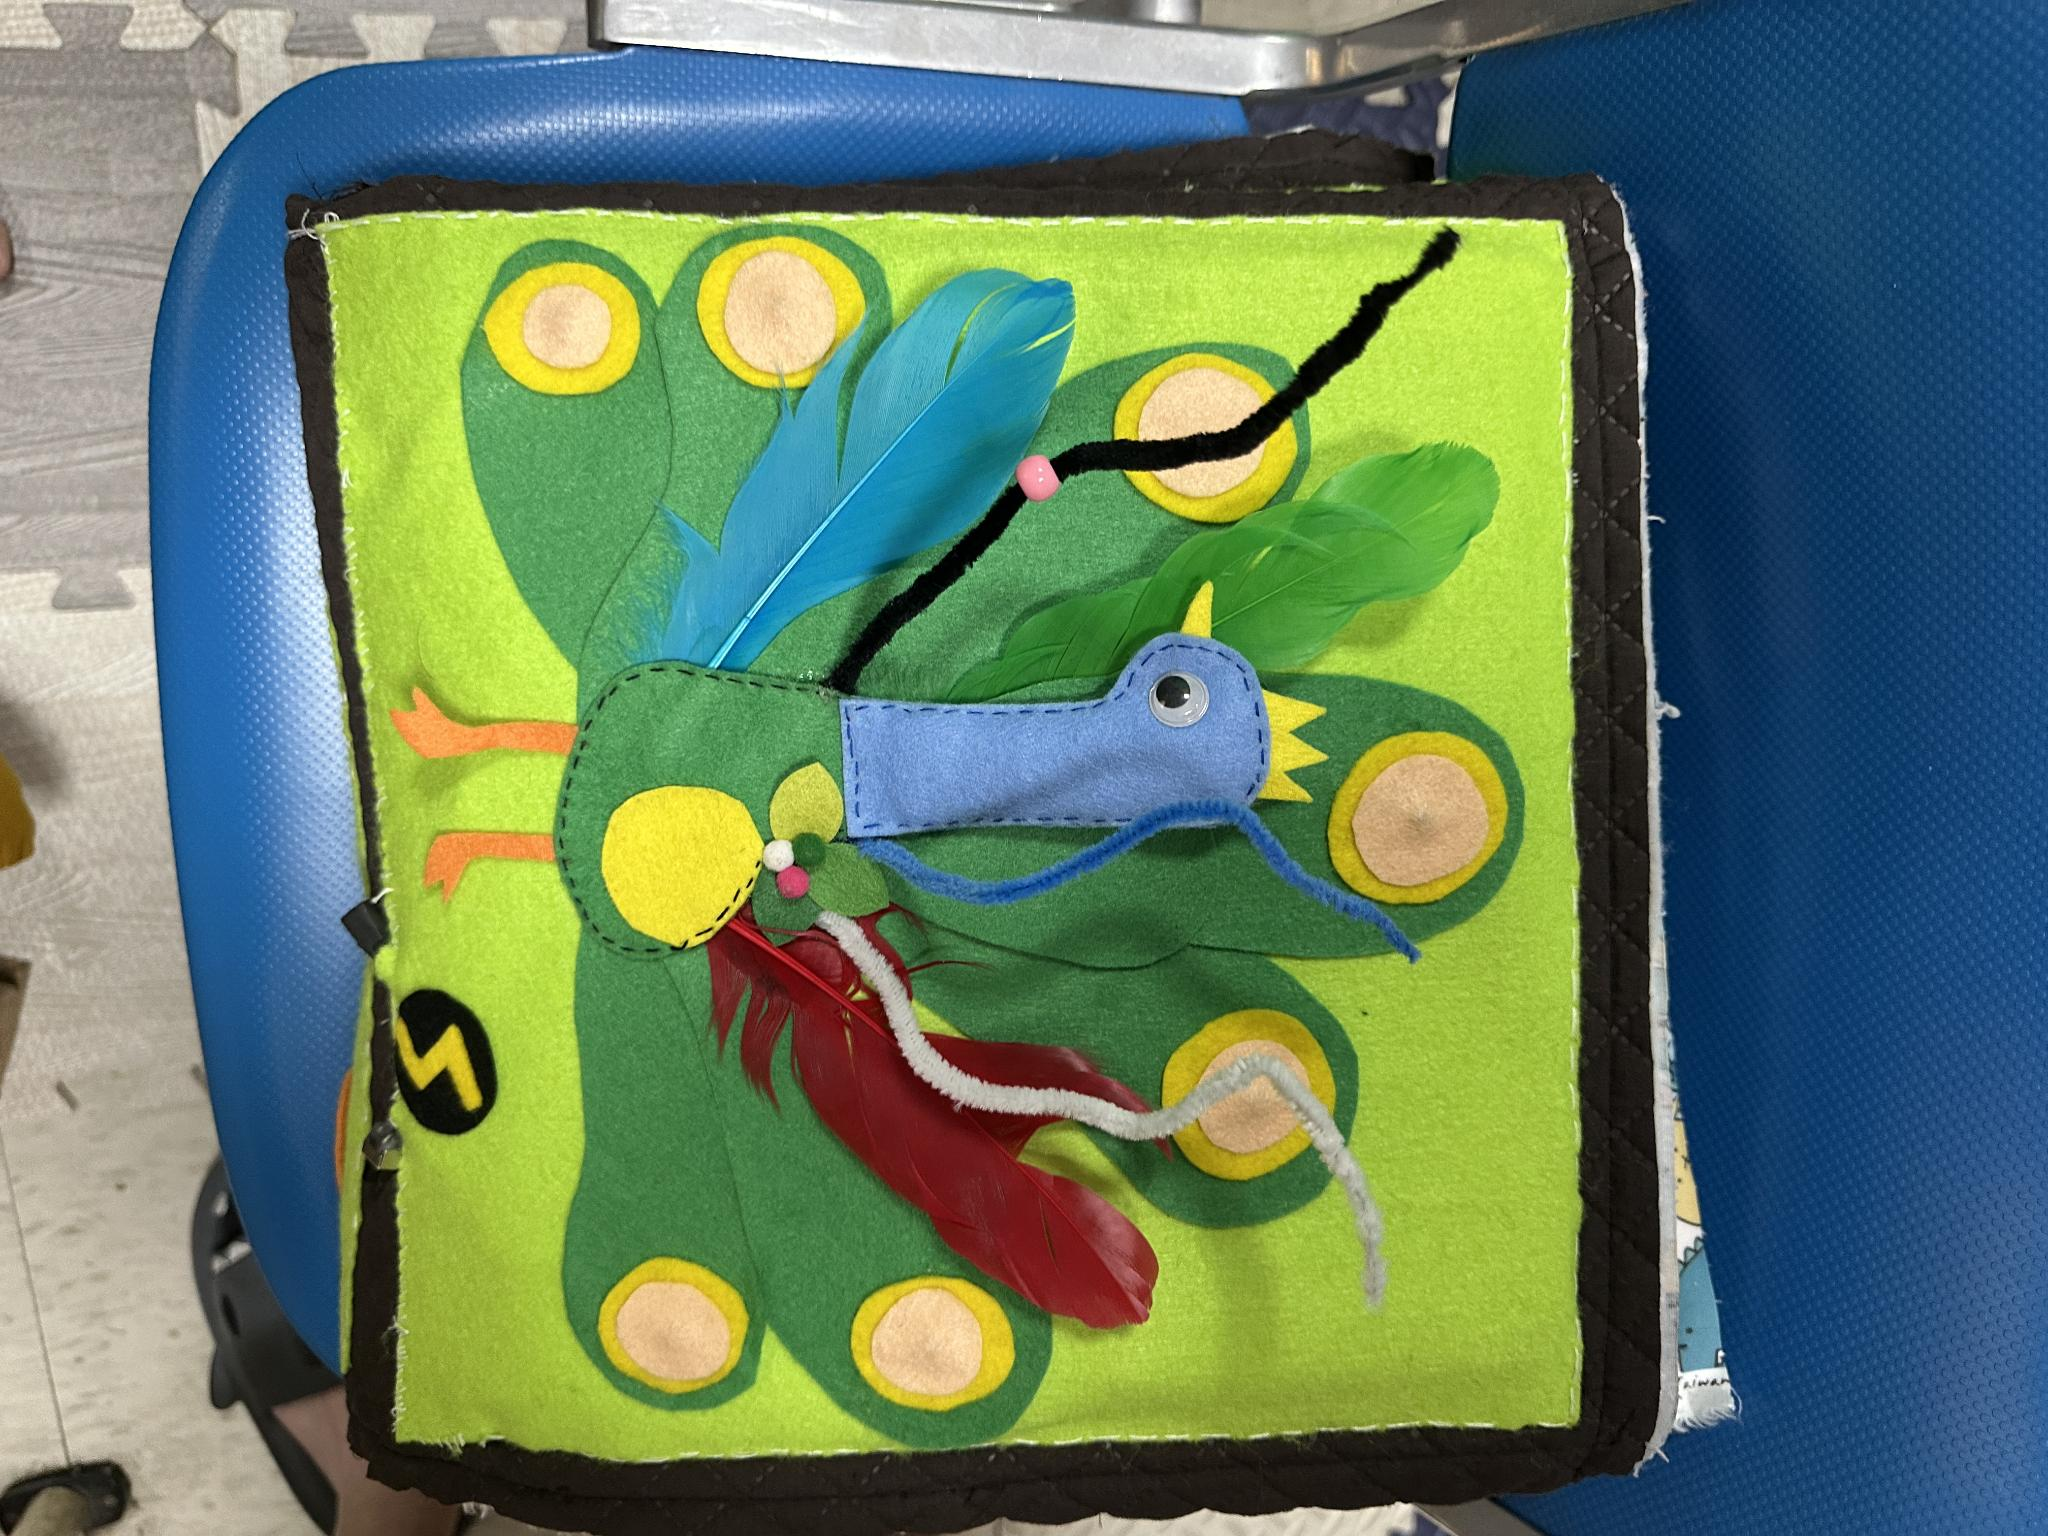bead: (1011, 449, 1071, 518)
